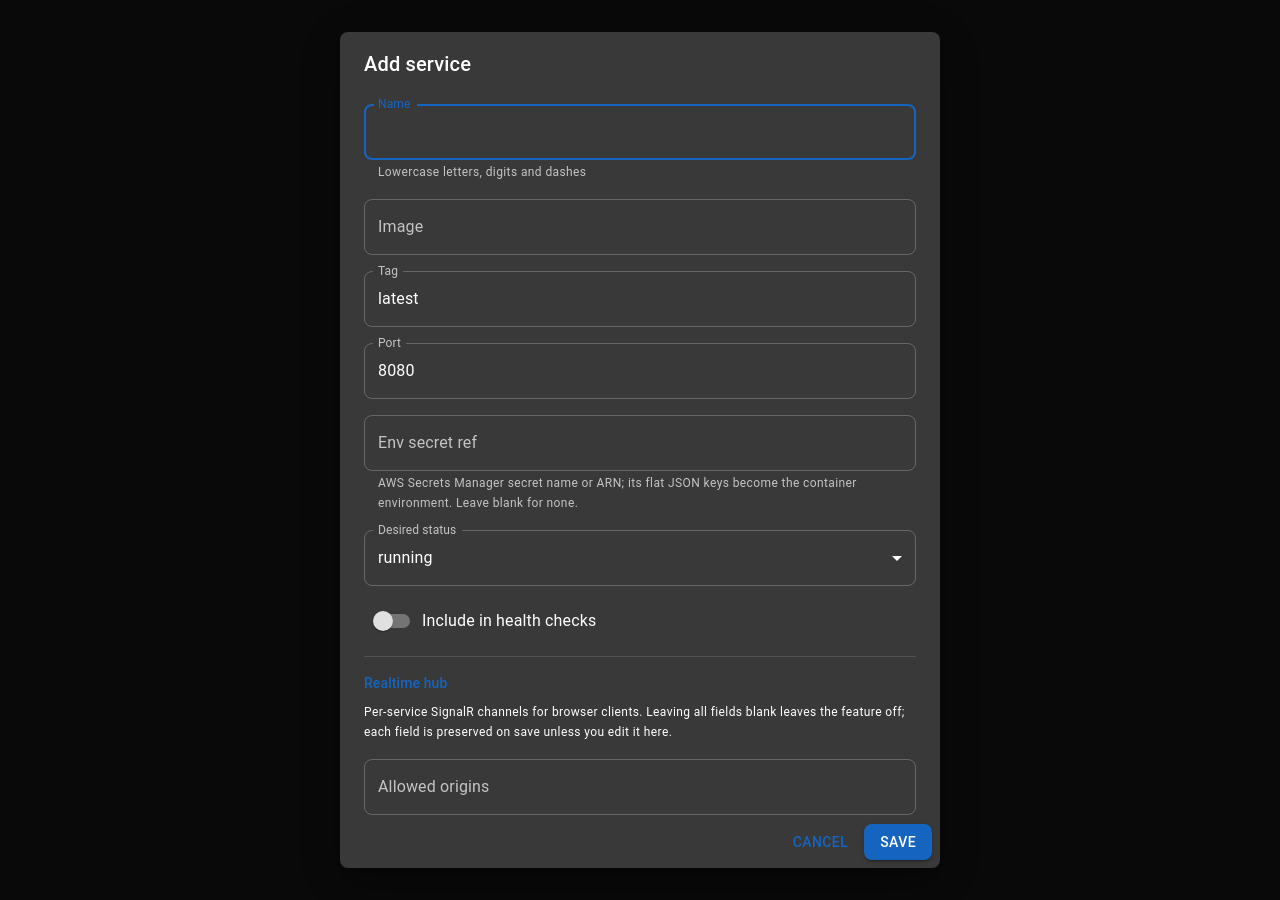
ServiceFormDialog › blocks submit and shows validation errors for a bad name and port
This screenshot has width=1280, height=900.
Type "Bad_Name" into the field labelled "Name" at coordinates (640, 132), box top-left (364, 104), bottom-right (916, 160)
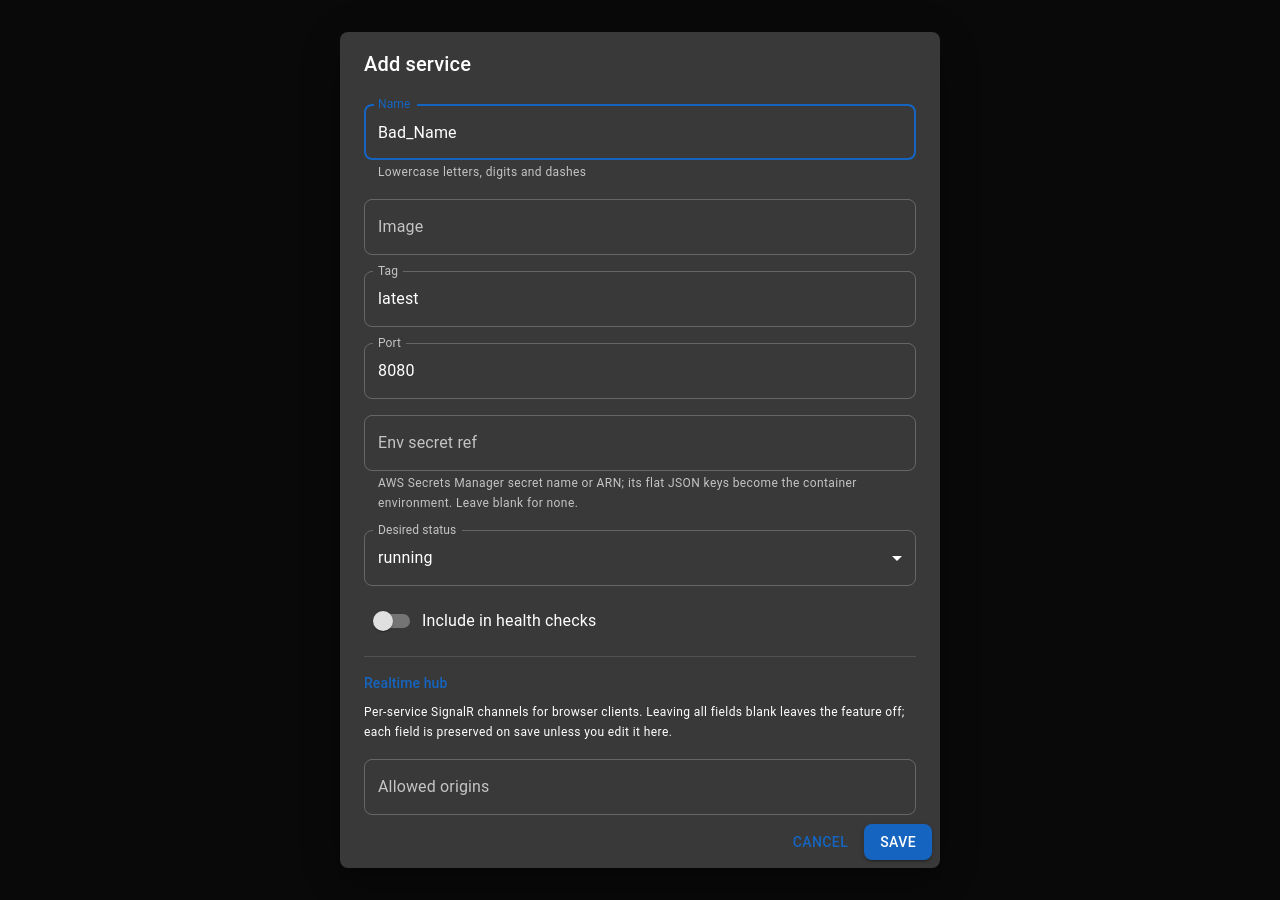
Type "registry/api" into the field labelled "Image" at coordinates (640, 227), box top-left (364, 199), bottom-right (916, 255)
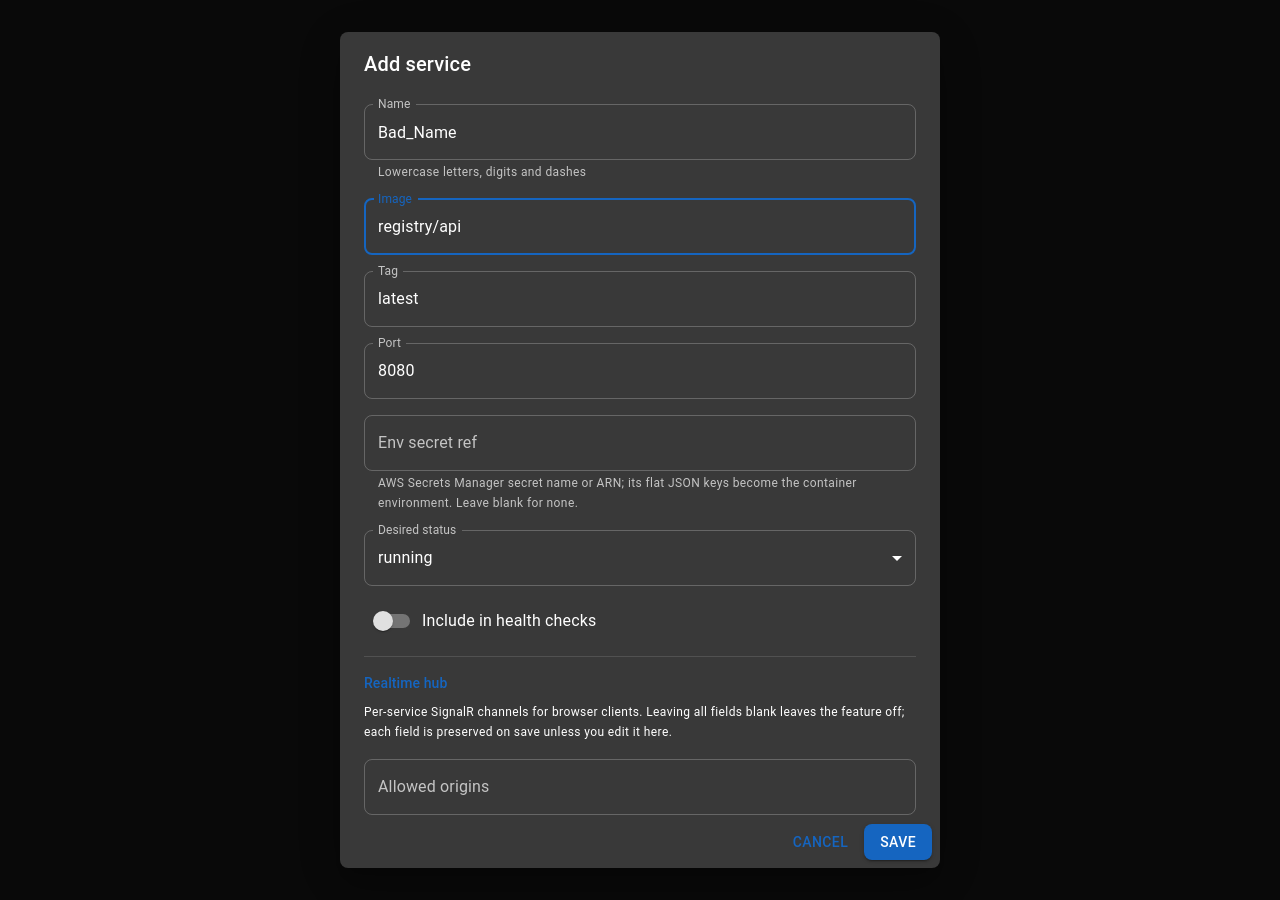
Replace the text in the field labelled "Port" with "70000" at coordinates (640, 371), box top-left (364, 343), bottom-right (916, 399)
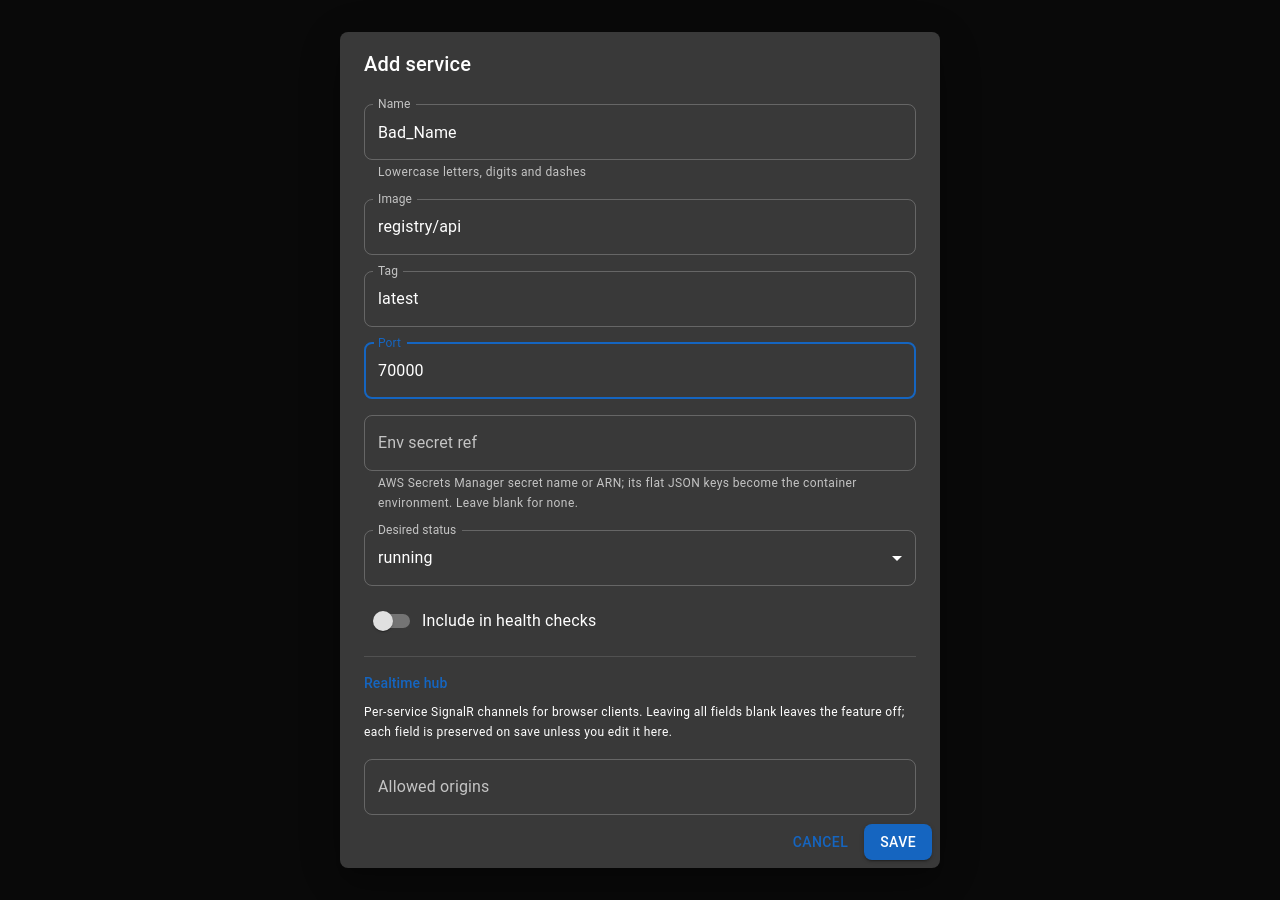
Click the button "Save" at coordinates (898, 842), box top-left (864, 824), bottom-right (932, 860)
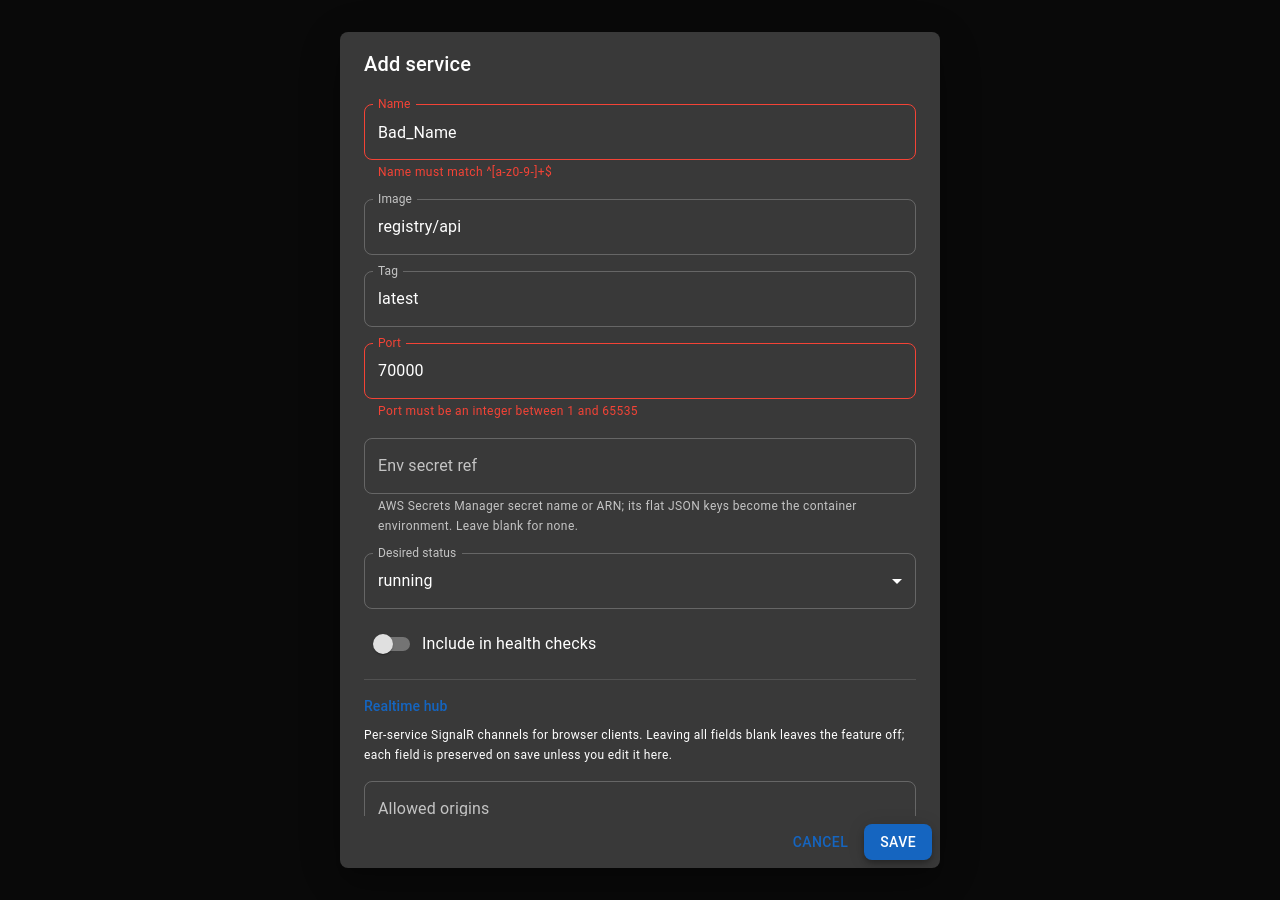
Expected: the text "Name must match ^[a-z0-9-]+$" is shown, top-left (378, 165), bottom-right (552, 179)
Expected: the text "Port must be an integer between 1 and 65535" is shown, top-left (378, 404), bottom-right (638, 418)
